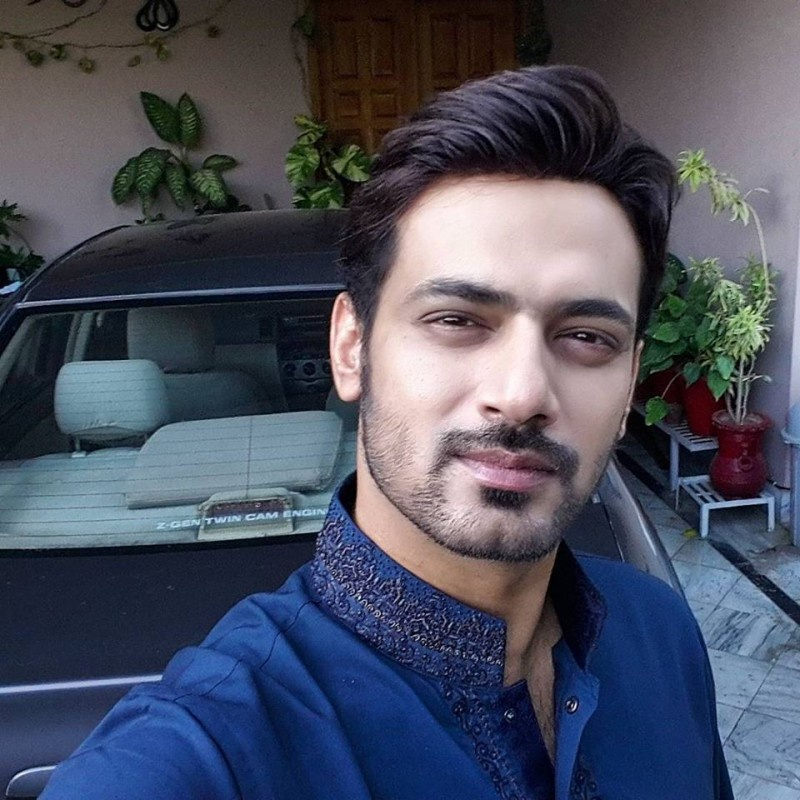bad: (348, 206, 669, 527)
